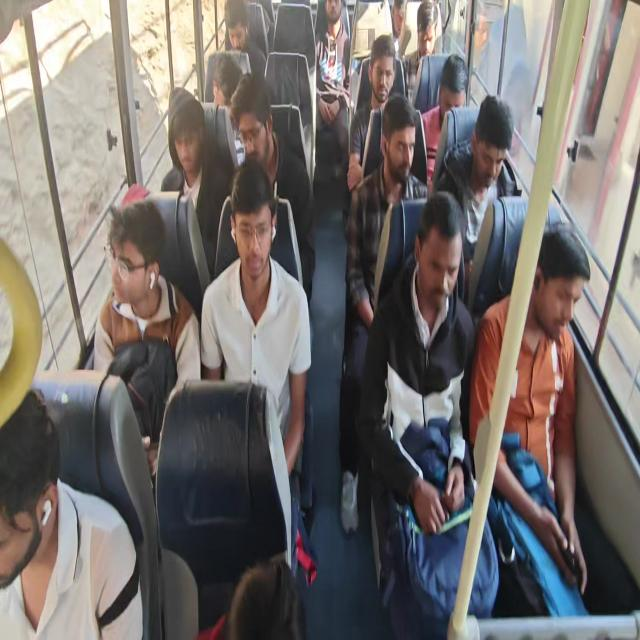person: (358, 190, 500, 635), (200, 160, 312, 576), (469, 226, 591, 603), (338, 93, 429, 536), (0, 387, 144, 639), (93, 197, 201, 479), (229, 72, 315, 307), (432, 94, 515, 301), (162, 95, 228, 273), (196, 557, 307, 639), (346, 34, 397, 193), (420, 53, 469, 188), (314, 0, 350, 179), (202, 53, 243, 173), (404, 0, 441, 106), (223, 0, 266, 79), (211, 54, 242, 107), (389, 0, 407, 56)
